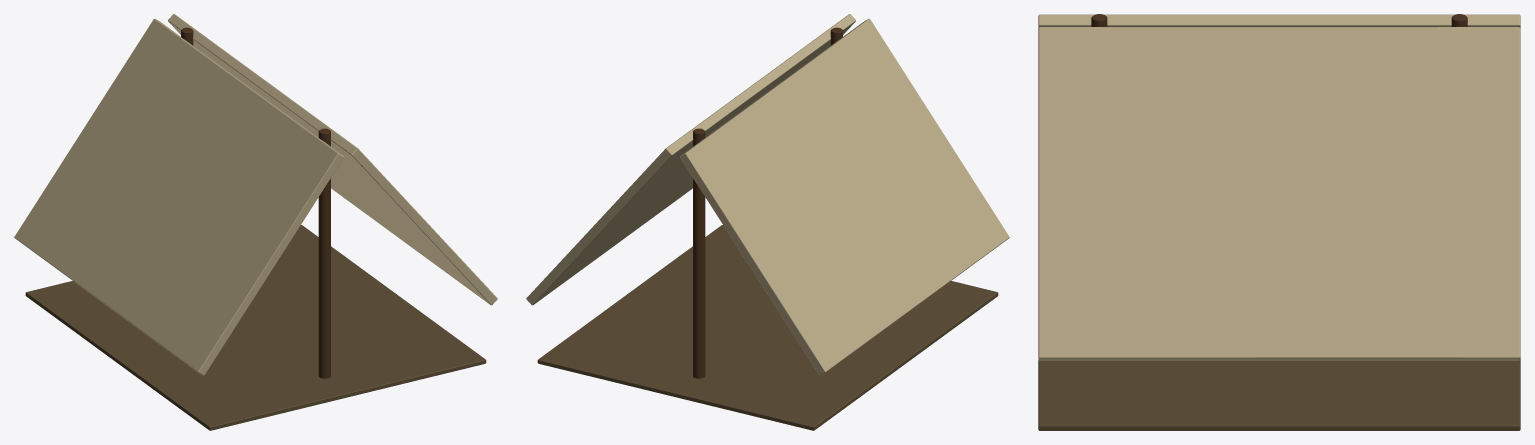
The model's file is tent.46b7a9bc.glb.
3 views of the same model, side by side, from view 1: azimuth 30°, elevation 25°; view 2: azimuth 150°, elevation 25°; view 3: azimuth 270°, elevation 25° (orthographic). The views are drawn at different scales.
Visible parts, largest first — view 1: body; view 2: body; view 3: body.
Part boxes in pixels (x1,y1,x2,y2): body: (14, 14, 497, 430); body: (526, 14, 1009, 430); body: (1038, 14, 1520, 430).
Size of the model in its own units: 1.41 by 1.12 by 1.5.
